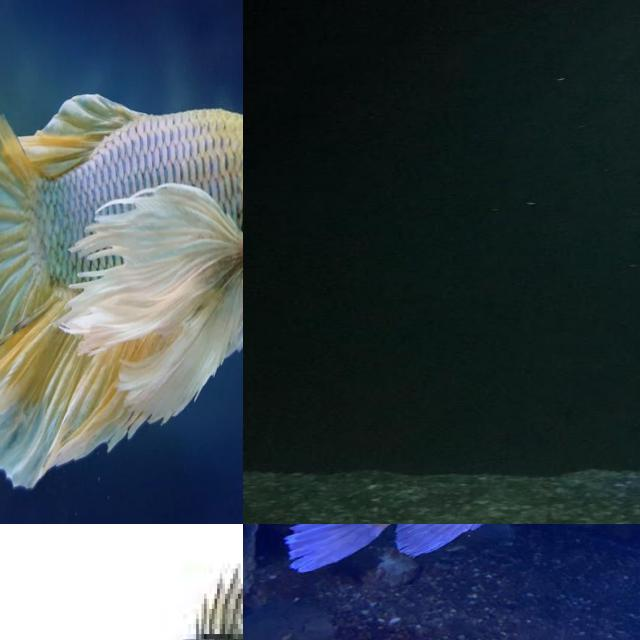fish: (0, 0, 243, 524), (0, 524, 243, 640), (275, 524, 640, 576)
